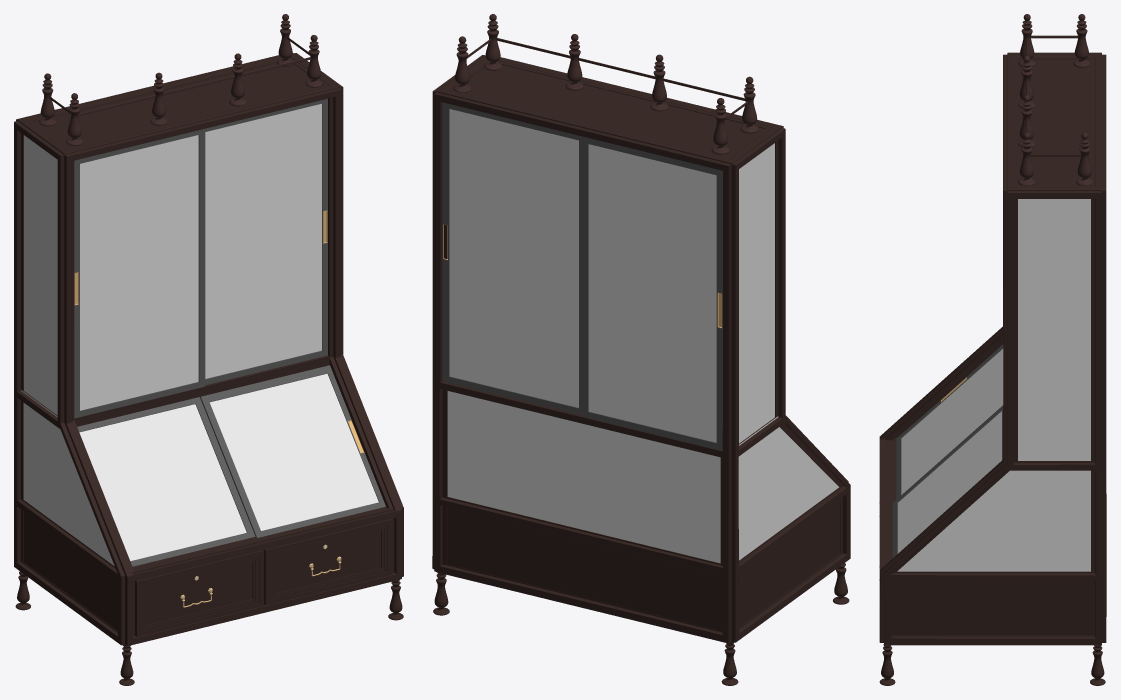
The model's file is separating cabinet .fbx.
The picture shows the model from 3 angles, left to right: view 1: azimuth 30°, elevation 25°; view 2: azimuth 150°, elevation 25°; view 3: azimuth 270°, elevation 25°; orthographic projection. The views are drawn at different scales.
Visible parts, largest first — view 1: merging cabinet.007, merging cabinet.006, merging cabinet.008; view 2: merging cabinet.007; view 3: merging cabinet.007.
Part boxes in pixels (bbox=[...]): merging cabinet.007: bbox=[14, 14, 403, 685]; merging cabinet.006: bbox=[21, 390, 263, 636]; merging cabinet.008: bbox=[263, 519, 392, 605]; merging cabinet.007: bbox=[432, 14, 850, 685]; merging cabinet.007: bbox=[879, 14, 1106, 685].
Bounding box in the file's own units: 2.05 × 3.71 × 1.41.
